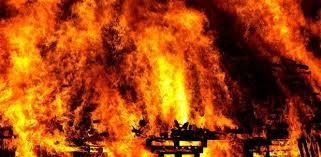fire: (0, 4, 292, 157)
